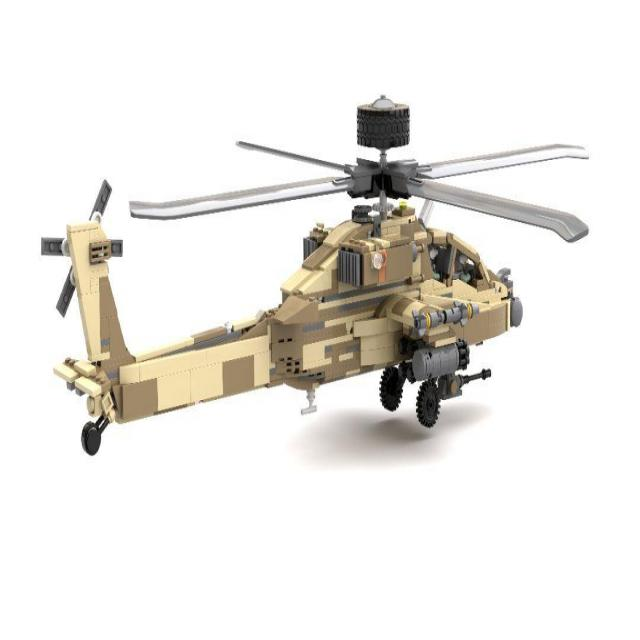MIL_HELO: (36, 96, 586, 458)
